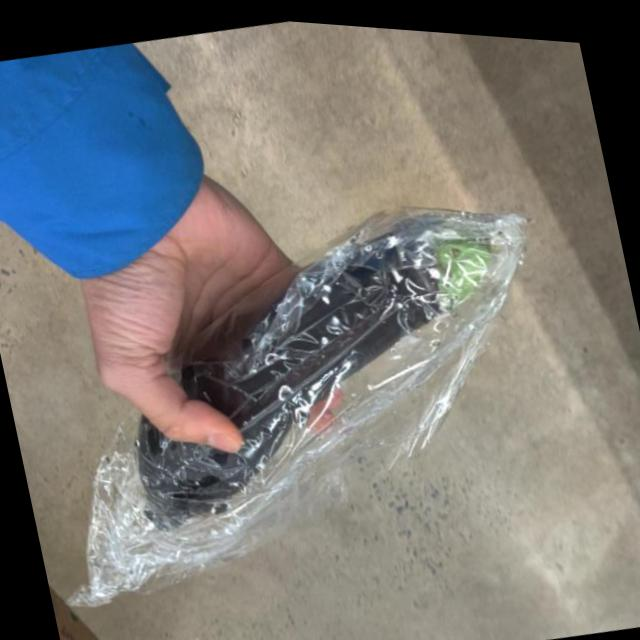Eggplant: (64, 172, 581, 560)
